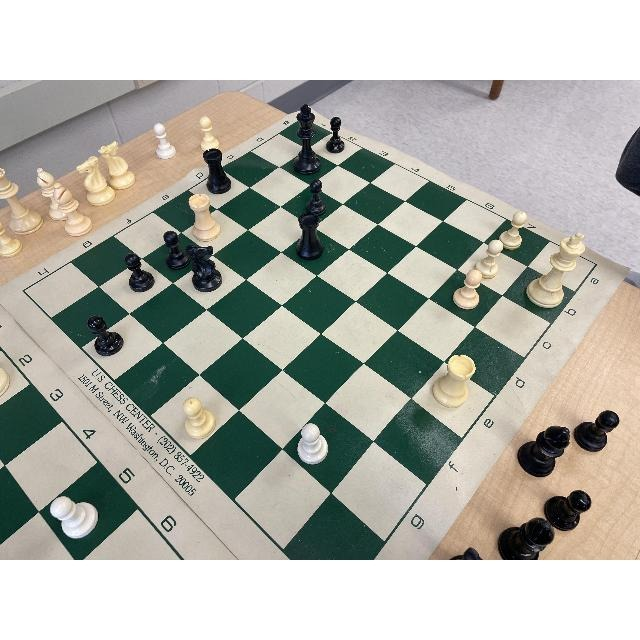black-king: (290, 105, 321, 175)
black-knight: (187, 242, 225, 293)
black-pawn: (86, 314, 128, 357), (122, 251, 156, 293), (161, 228, 189, 275), (326, 115, 349, 157), (307, 177, 330, 215)
black-rook: (201, 149, 237, 196), (298, 212, 325, 264)
white-king: (528, 230, 590, 314)
white-pawn: (48, 495, 99, 539), (182, 398, 215, 441), (298, 424, 328, 466), (500, 209, 528, 250), (455, 269, 481, 312), (478, 238, 504, 280)
white-rook: (432, 353, 476, 410), (189, 192, 223, 241)
